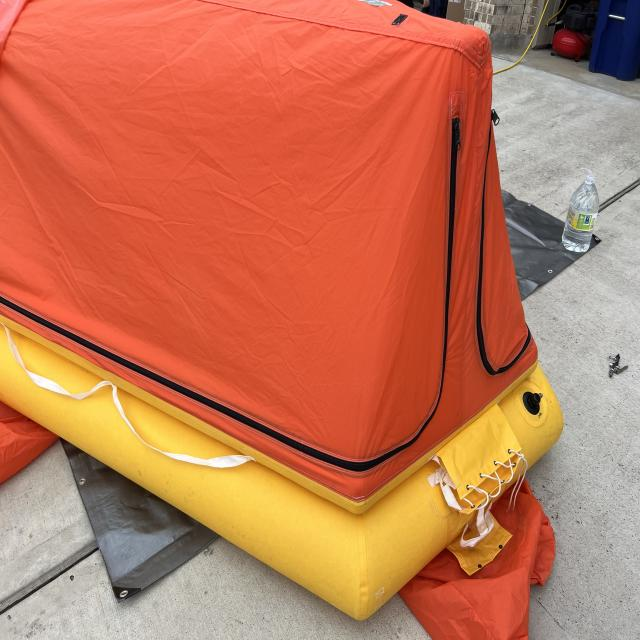Multi-person_life_raft: (0, 1, 564, 639)
